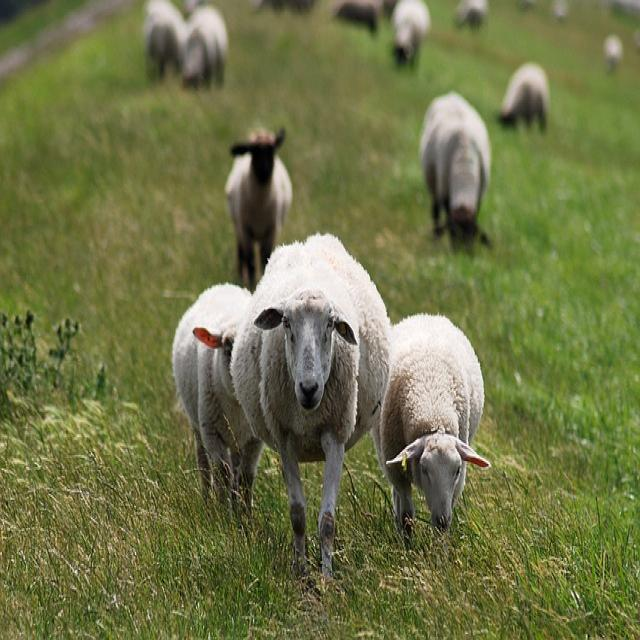goat: (229, 234, 393, 577), (374, 315, 487, 545), (171, 285, 251, 492), (224, 128, 293, 294), (420, 92, 492, 245)
